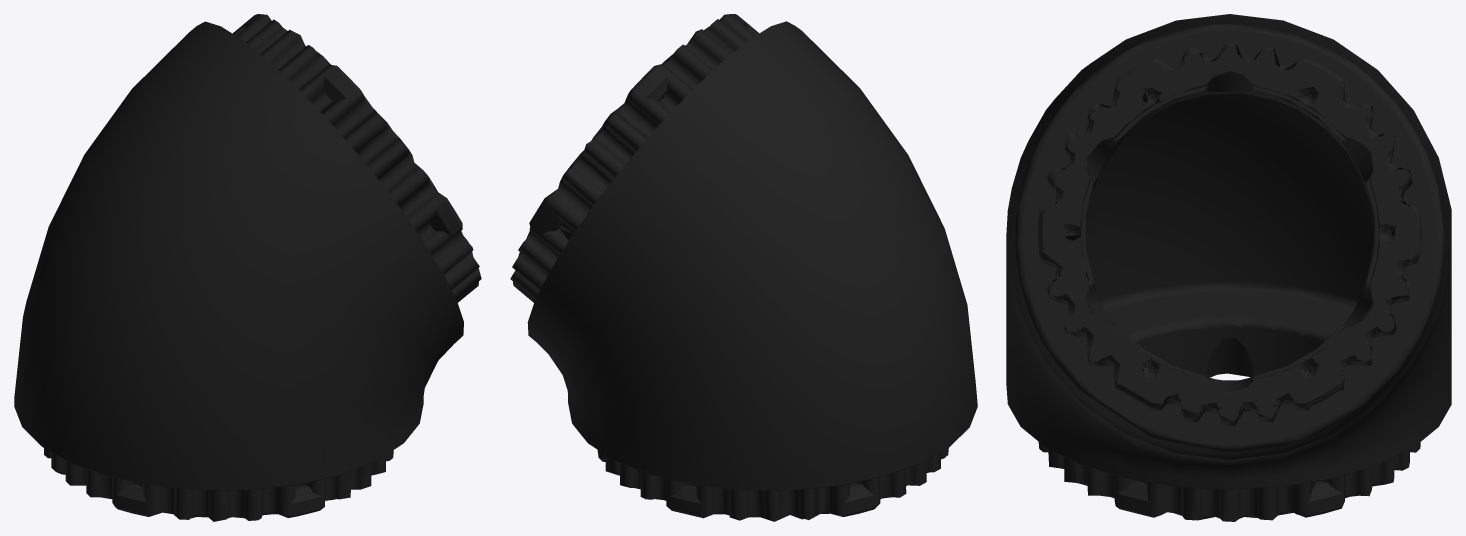
File: Robolink_RebeL_002_1.dae
3 renders of one model, left to right at view 1: azimuth 30°, elevation 25°; view 2: azimuth 150°, elevation 25°; view 3: azimuth 270°, elevation 25°, orthographic. The views are drawn at different scales.
Visible parts, largest first — view 1: Robolink_RebeL_002_1; view 2: Robolink_RebeL_002_1; view 3: Robolink_RebeL_002_1.
Boxes of the visible parts, x1,y1,x2,y2 form: Robolink_RebeL_002_1: (14, 14, 481, 521); Robolink_RebeL_002_1: (510, 14, 977, 521); Robolink_RebeL_002_1: (1006, 14, 1451, 521).
Bounding box in the file's own units: 0.118 × 0.1046 × 0.1151.
Materials: 1 (1 with a texture image).
